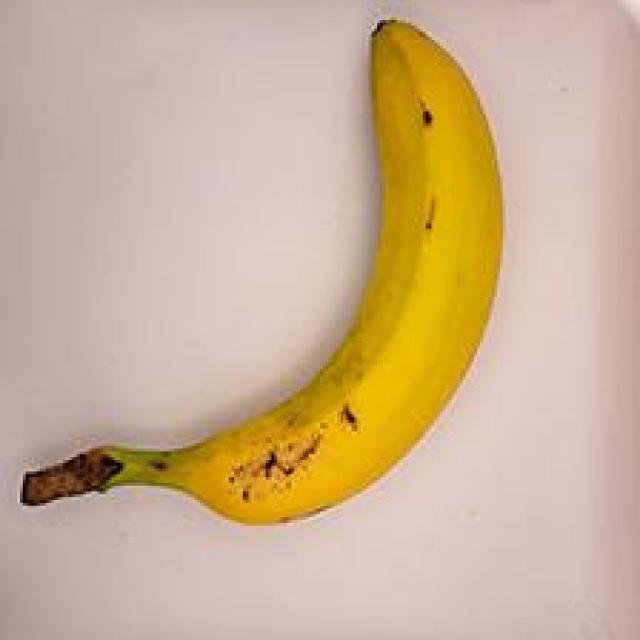ripe: (0, 0, 546, 577)
